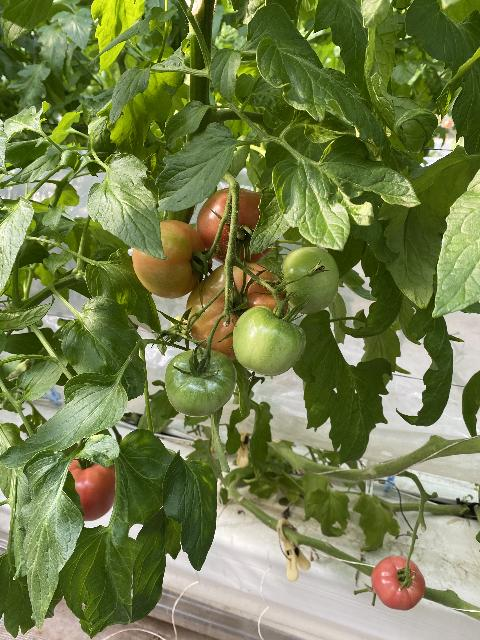b_fully_ripened: (68, 456, 116, 522), (371, 555, 426, 611)
b_green: (232, 305, 307, 376), (164, 348, 237, 417), (281, 247, 339, 315)
b_half_ripened: (185, 261, 289, 362), (196, 187, 277, 265), (131, 219, 205, 299)
